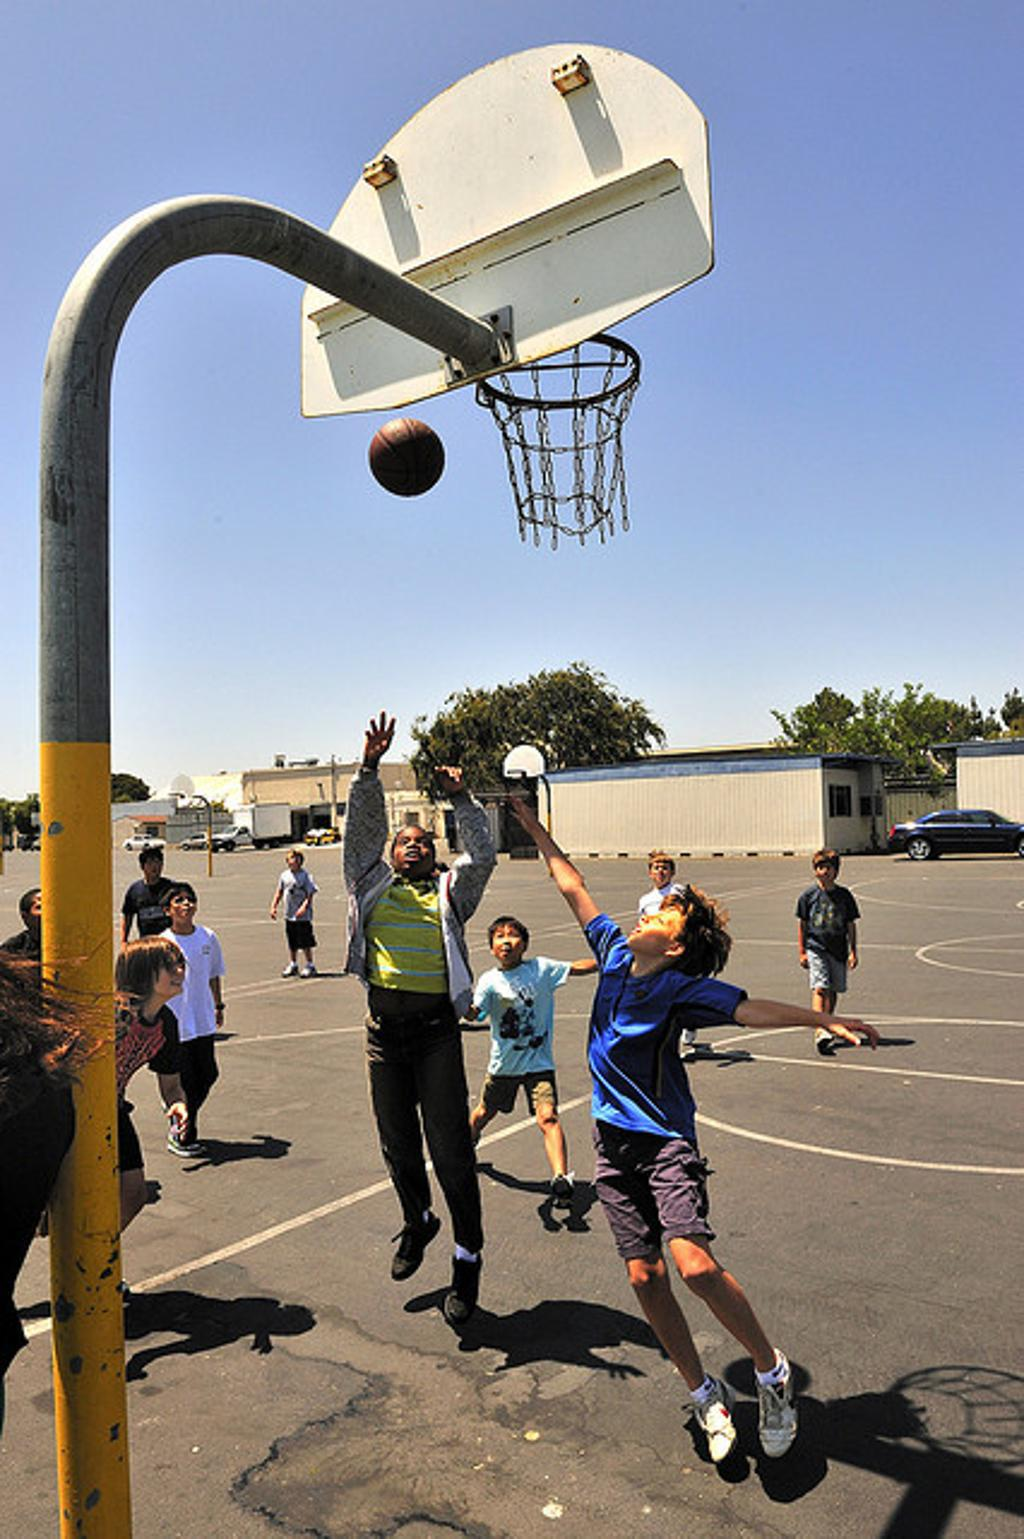face: (625, 906, 666, 956), (397, 834, 428, 874), (28, 896, 59, 934), (155, 960, 185, 995), (494, 931, 523, 963), (173, 895, 197, 920), (652, 865, 672, 885), (817, 864, 836, 881), (146, 860, 162, 879), (287, 858, 299, 871)
